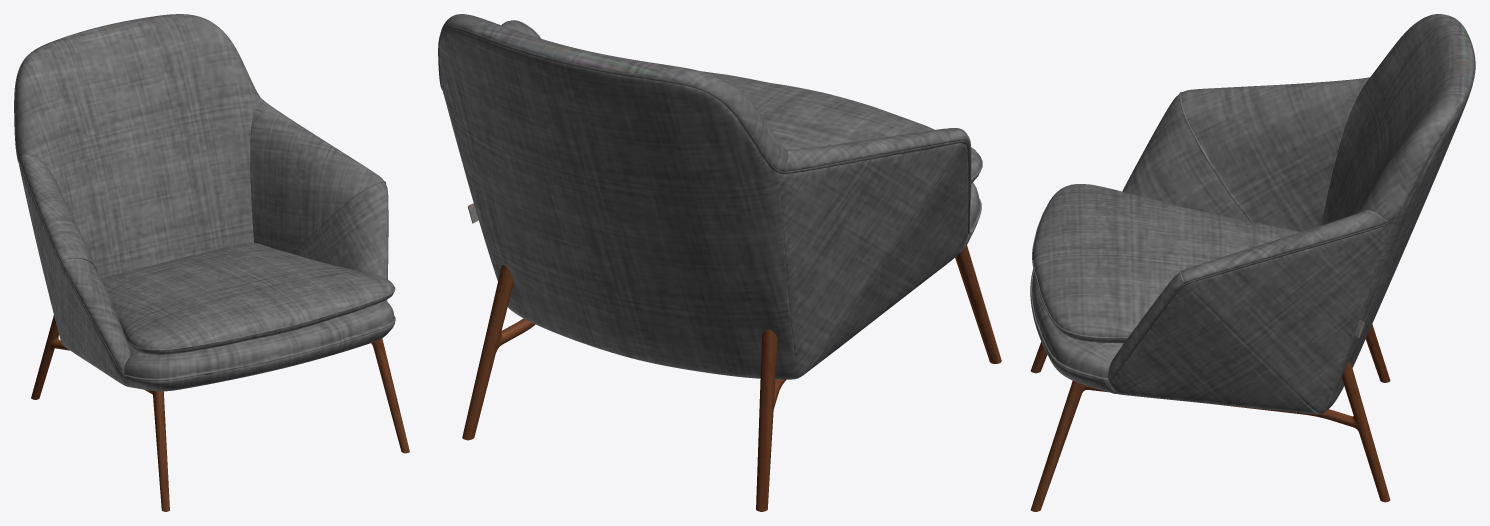
File: armchair.glb
3 views of the same model, side by side, from view 1: azimuth 30°, elevation 25°; view 2: azimuth 150°, elevation 25°; view 3: azimuth 270°, elevation 25° (orthographic). The views are drawn at different scales.
Visible parts, largest first — view 1: HUG_ARMCHAIR:HUG_Armchair_602_014_2; view 2: HUG_ARMCHAIR:HUG_Armchair_602_014_2; view 3: HUG_ARMCHAIR:HUG_Armchair_602_014_2.
Part boxes in pixels (x1,y1,x2,y2): HUG_ARMCHAIR:HUG_Armchair_602_014_2: (14, 14, 409, 511); HUG_ARMCHAIR:HUG_Armchair_602_014_2: (438, 14, 1001, 511); HUG_ARMCHAIR:HUG_Armchair_602_014_2: (1030, 14, 1475, 511).
Bounding box in the file's own units: 1 × 0.9474 × 1.
Materials: 1 (1 with a texture image).
